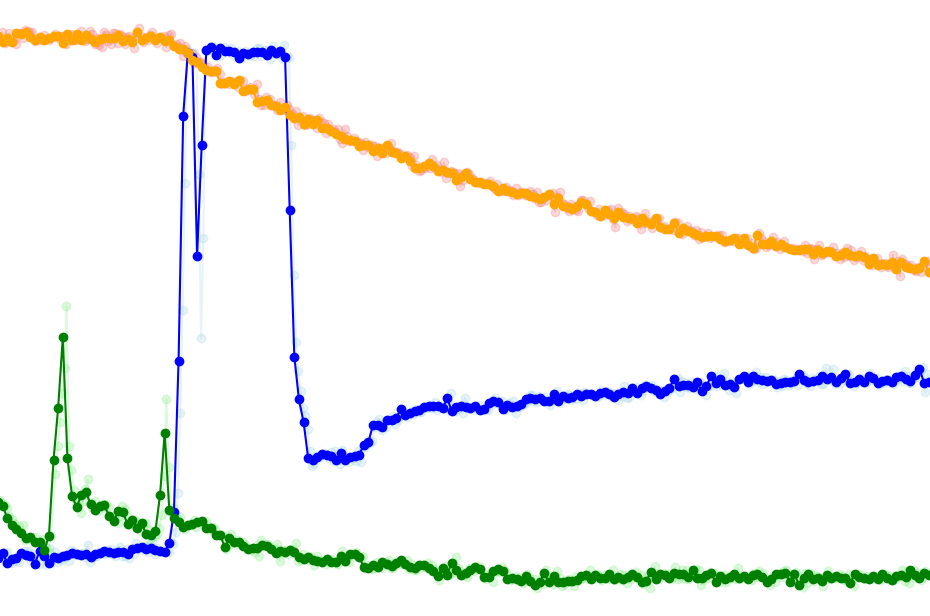Condensation (CO2): (109, 0, 331, 616)
Normal: (331, 0, 928, 616)
